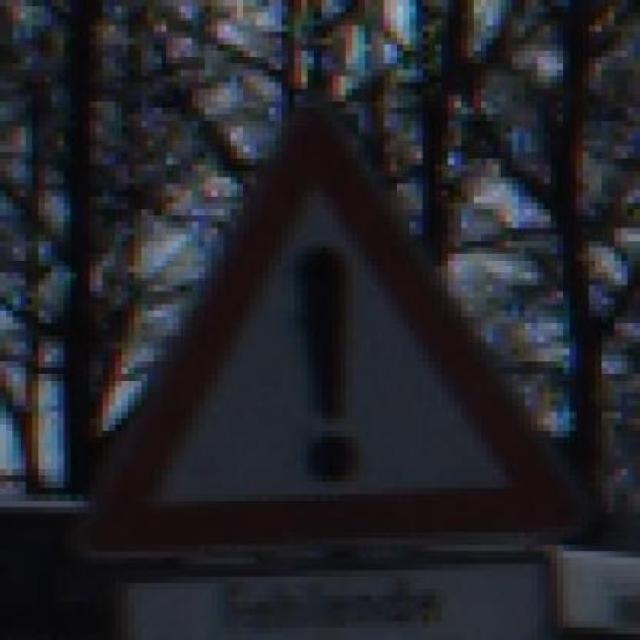Attention Please-: (39, 82, 602, 552)
